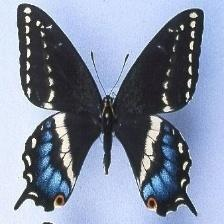butterfly: (15, 5, 204, 216)
